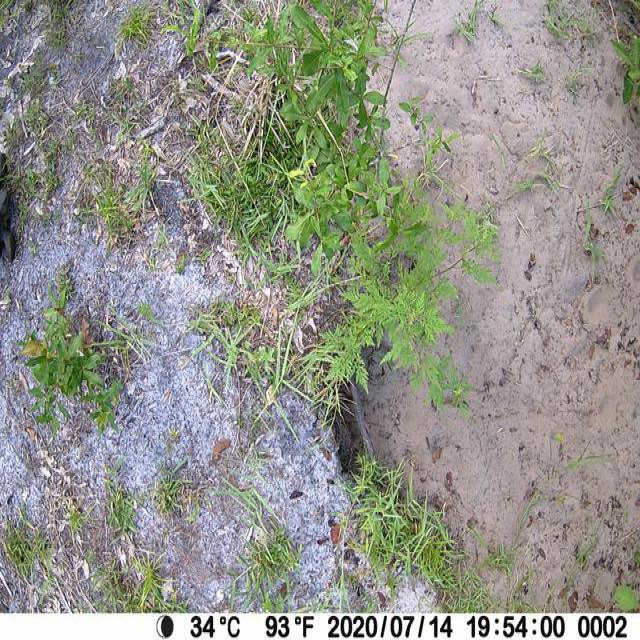tortoise: (0, 150, 16, 262)
